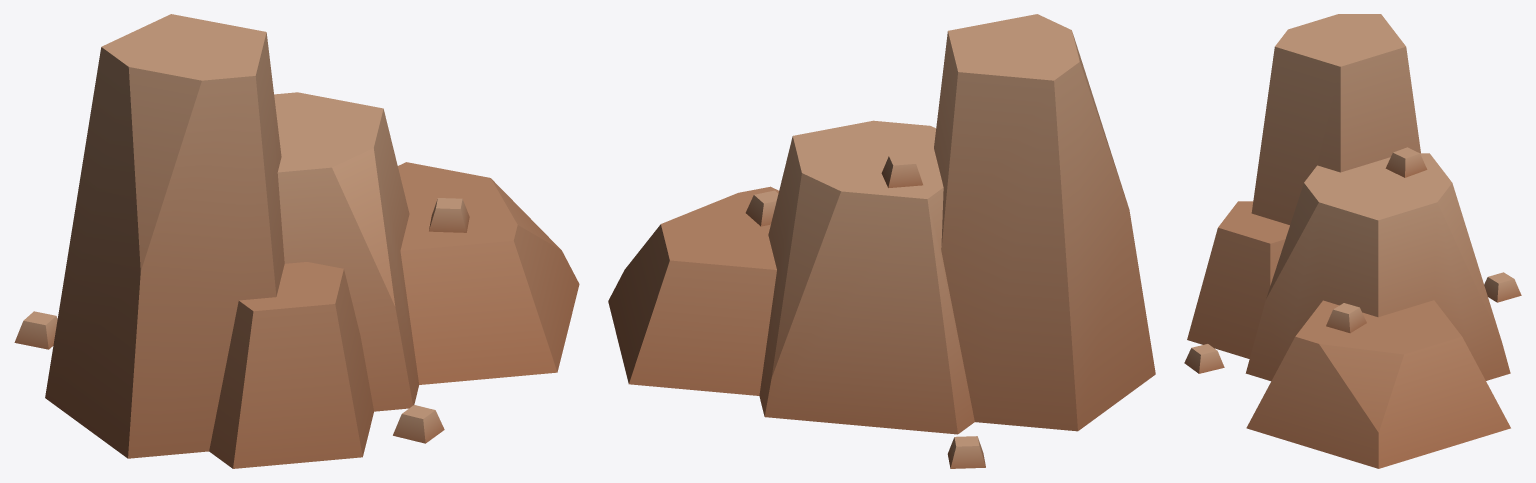
File: rock-sand-c.glb
3 renders of one model, left to right at view 1: azimuth 30°, elevation 25°; view 2: azimuth 150°, elevation 25°; view 3: azimuth 270°, elevation 25°, orthographic. The views are drawn at different scales.
Visible parts, largest first — view 1: rock-sand-c; view 2: rock-sand-c; view 3: rock-sand-c.
Boxes of the visible parts, left/top/right/bottom form: rock-sand-c: left=14, top=14, right=579, bottom=468; rock-sand-c: left=608, top=14, right=1155, bottom=468; rock-sand-c: left=1184, top=14, right=1521, bottom=468.
Bounding box in the file's own units: 0.7837 × 0.51 × 0.5691.
